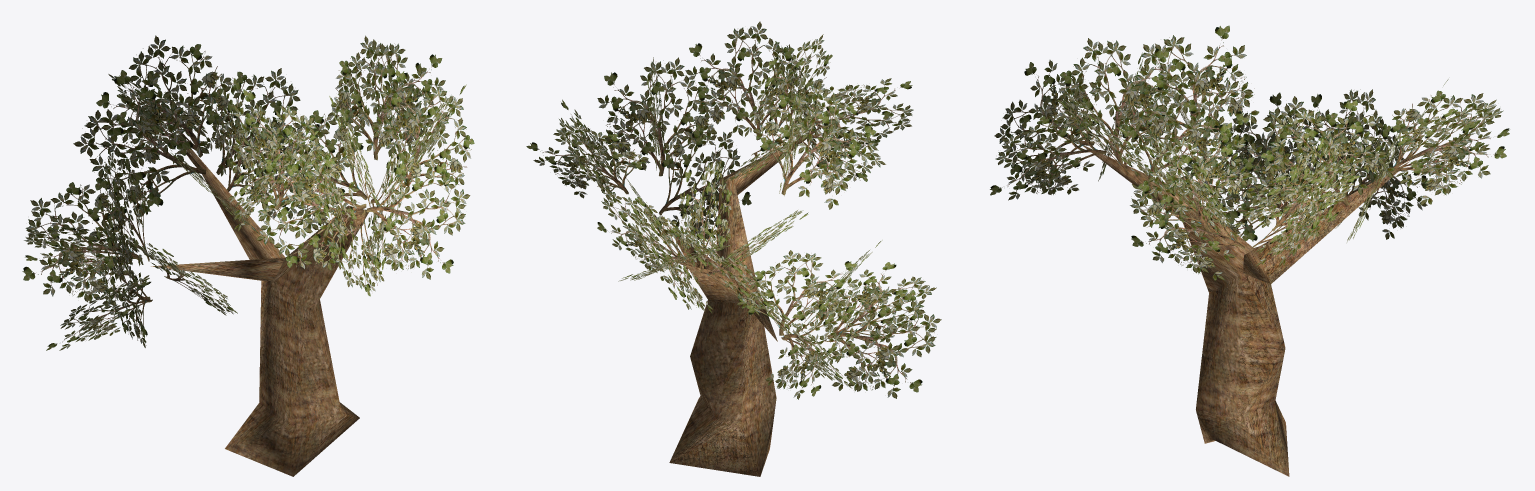
The model's file is decd_blba_tree_a1_l3.fbx.
3 renders of one model, left to right at view 1: azimuth 30°, elevation 25°; view 2: azimuth 150°, elevation 25°; view 3: azimuth 270°, elevation 25°, orthographic. The views are drawn at different scales.
Visible parts, largest first — view 1: mesh_node; view 2: mesh_node; view 3: mesh_node.
Boxes of the visible parts, x1,y1,x2,y2 form: mesh_node: (22, 35, 474, 476); mesh_node: (526, 21, 941, 476); mesh_node: (990, 25, 1509, 476).
Bounding box in the file's own units: 12.17 × 11.11 × 13.3.
